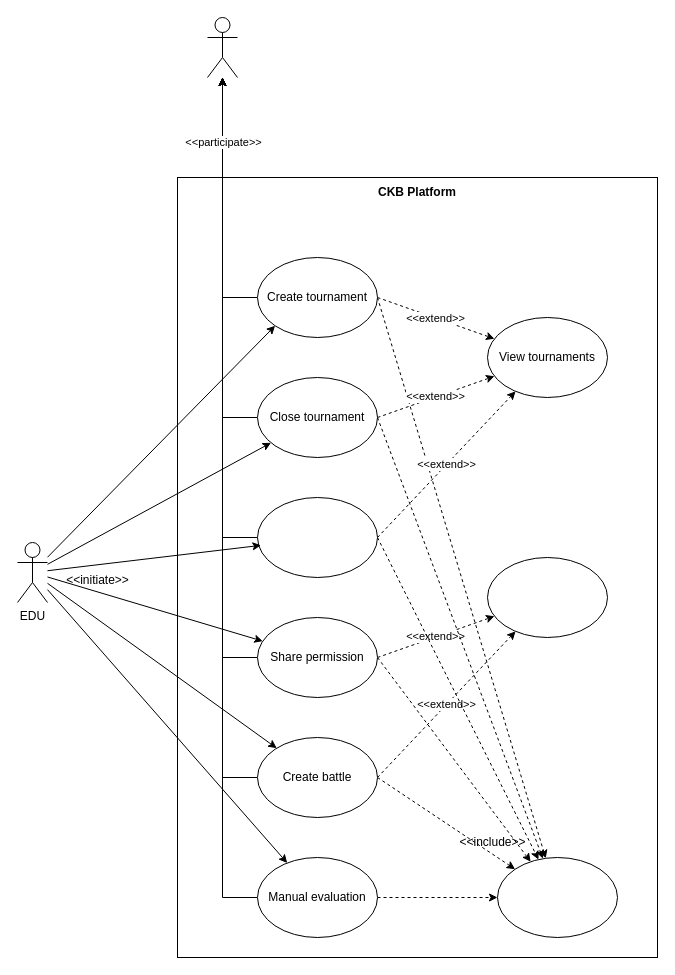
Some shapes in this 675 by 975 pixel diagram are drawn without their labels. Each missing label, with the centre of its shape:
"Create a new badge" belongs at (x=317, y=537).
"Login" belongs at (x=557, y=897).
"Notification" belongs at (x=222, y=47).
"View battles within a tournament" belongs at (x=547, y=597).
